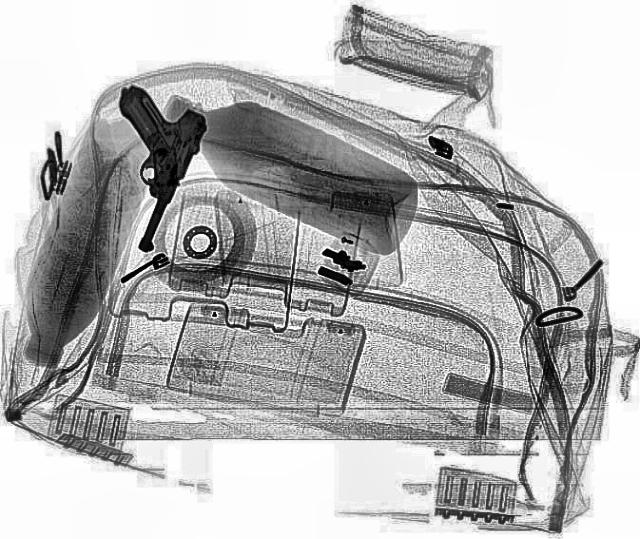Gun: (99, 81, 213, 255)
